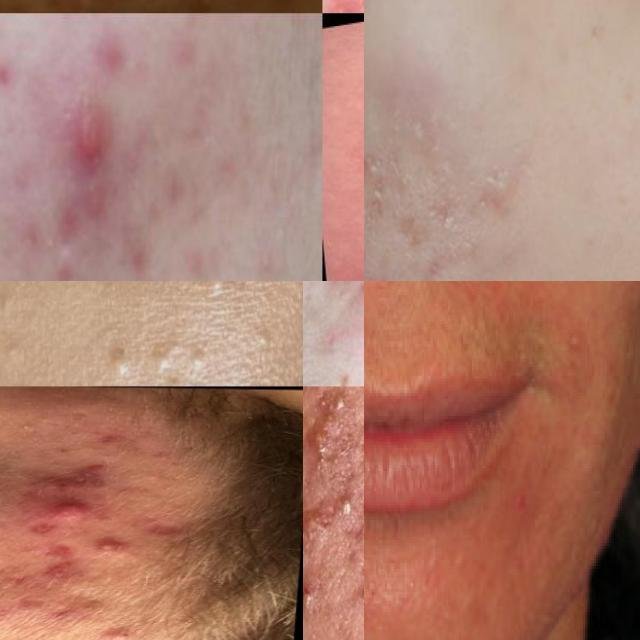acne_scars: (20, 537, 101, 582), (399, 214, 428, 265), (364, 196, 393, 241)
comedone: (146, 330, 185, 386), (241, 317, 282, 365), (33, 220, 64, 280), (103, 333, 137, 372), (0, 335, 27, 368), (188, 336, 208, 372), (0, 281, 14, 324), (200, 281, 233, 297), (154, 373, 193, 386), (354, 575, 364, 622), (151, 0, 184, 13), (14, 419, 41, 433), (47, 445, 82, 455), (62, 426, 81, 439)
cystic: (40, 494, 99, 524)
papule: (62, 90, 118, 176), (303, 570, 318, 624), (103, 625, 149, 640), (0, 606, 18, 628), (364, 234, 372, 281)
pustule: (89, 538, 130, 555)
sebo-crystan-conglo: (308, 386, 342, 459), (303, 503, 346, 555)
